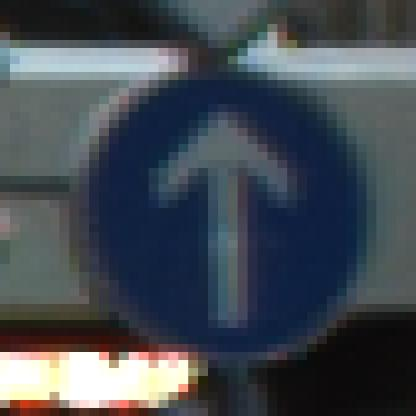AheadOnly: (51, 49, 368, 369)
